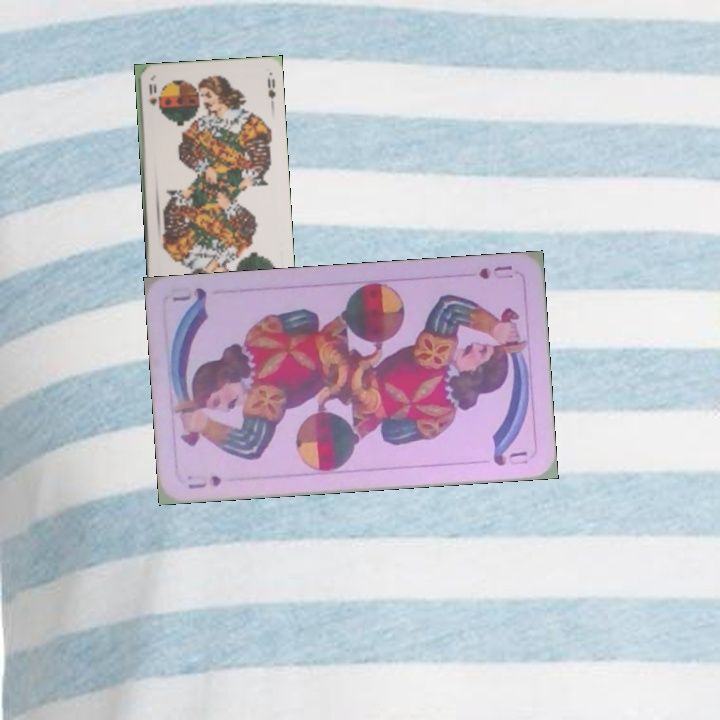SO: (145, 79, 159, 109)
SU: (184, 471, 224, 492), (475, 261, 515, 282)
